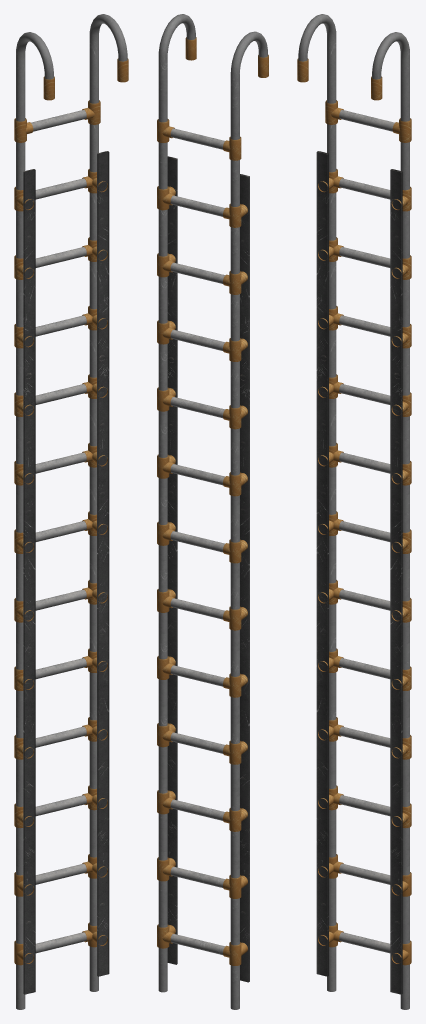
Rendered from sm40_016_libraryladder01a.fbx.
3 views of the same model, side by side, from view 1: azimuth 30°, elevation 25°; view 2: azimuth 150°, elevation 25°; view 3: azimuth 330°, elevation 25° (orthographic). The views are drawn at different scales.
Visible parts, largest first — view 1: LOD_1_Group_0_Sub_1__sm40_016_LibraryLadder01A_A_Mat, LOD_1_Group_3_Sub_1__sm40_016_LibraryLadder01A_A_Mat, LOD_1_Group_1_Sub_1__sm40_016_LibraryLadder01A_A_Mat, LOD_1_Group_2_Sub_1__sm40_016_LibraryLadder01A_A_Mat; view 2: LOD_1_Group_3_Sub_1__sm40_016_LibraryLadder01A_A_Mat, LOD_1_Group_0_Sub_1__sm40_016_LibraryLadder01A_A_Mat, LOD_1_Group_2_Sub_1__sm40_016_LibraryLadder01A_A_Mat, LOD_1_Group_1_Sub_1__sm40_016_LibraryLadder01A_A_Mat; view 3: LOD_1_Group_0_Sub_1__sm40_016_LibraryLadder01A_A_Mat, LOD_1_Group_3_Sub_1__sm40_016_LibraryLadder01A_A_Mat, LOD_1_Group_1_Sub_1__sm40_016_LibraryLadder01A_A_Mat, LOD_1_Group_2_Sub_1__sm40_016_LibraryLadder01A_A_Mat.
Boxes of the visible parts, bbox=[...] form: LOD_1_Group_0_Sub_1__sm40_016_LibraryLadder01A_A_Mat: bbox=[23, 151, 109, 994]; LOD_1_Group_3_Sub_1__sm40_016_LibraryLadder01A_A_Mat: bbox=[16, 14, 127, 1009]; LOD_1_Group_1_Sub_1__sm40_016_LibraryLadder01A_A_Mat: bbox=[31, 58, 128, 953]; LOD_1_Group_2_Sub_1__sm40_016_LibraryLadder01A_A_Mat: bbox=[14, 100, 107, 965]; LOD_1_Group_3_Sub_1__sm40_016_LibraryLadder01A_A_Mat: bbox=[158, 14, 267, 1009]; LOD_1_Group_0_Sub_1__sm40_016_LibraryLadder01A_A_Mat: bbox=[167, 156, 249, 982]; LOD_1_Group_2_Sub_1__sm40_016_LibraryLadder01A_A_Mat: bbox=[157, 119, 247, 965]; LOD_1_Group_1_Sub_1__sm40_016_LibraryLadder01A_A_Mat: bbox=[170, 37, 268, 954]; LOD_1_Group_0_Sub_1__sm40_016_LibraryLadder01A_A_Mat: bbox=[316, 151, 402, 994]; LOD_1_Group_3_Sub_1__sm40_016_LibraryLadder01A_A_Mat: bbox=[298, 14, 409, 1009]; LOD_1_Group_1_Sub_1__sm40_016_LibraryLadder01A_A_Mat: bbox=[297, 58, 394, 953]; LOD_1_Group_2_Sub_1__sm40_016_LibraryLadder01A_A_Mat: bbox=[318, 100, 411, 965].
Bounding box in the file's own units: 0.5167 × 5.74 × 0.3659.
